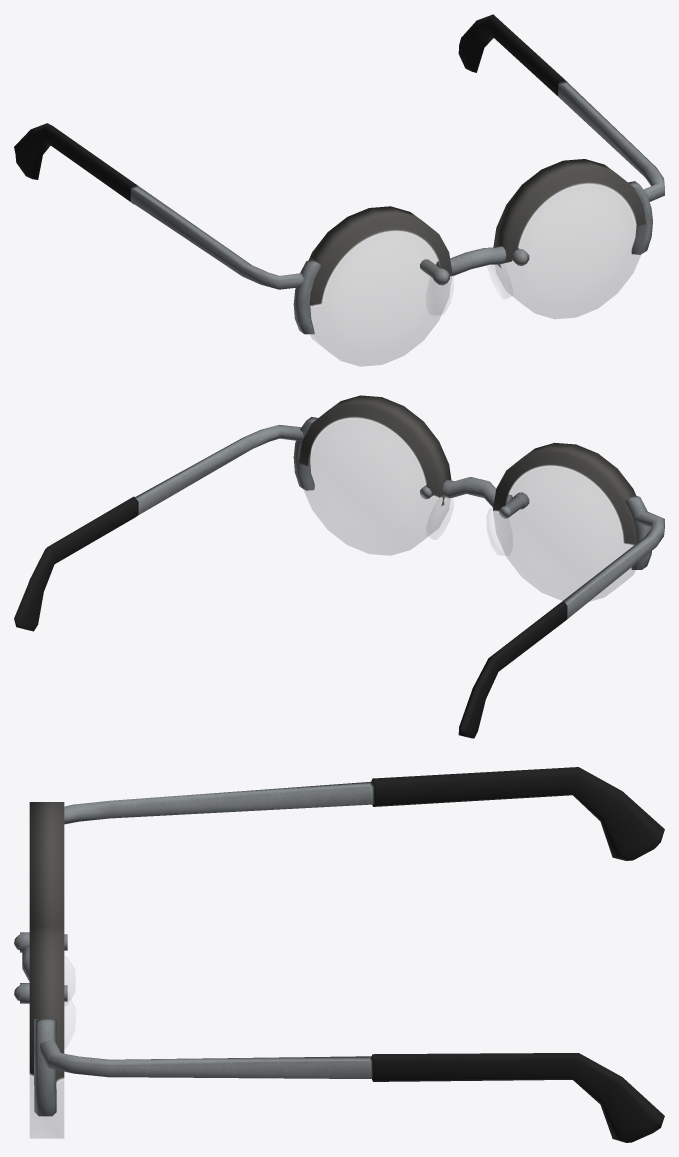
File: femaleglass1.glb
The picture shows the model from 3 angles, top to bottom: view 1: azimuth 30°, elevation 25°; view 2: azimuth 150°, elevation 25°; view 3: azimuth 270°, elevation 25°; orthographic projection. The views are drawn at different scales.
Visible parts, largest first — view 1: Wolf3D_Glasses; view 2: Wolf3D_Glasses; view 3: Wolf3D_Glasses.
Boxes of the visible parts, <box> form: Wolf3D_Glasses: <box>14,14,664,366</box>; Wolf3D_Glasses: <box>14,395,664,738</box>; Wolf3D_Glasses: <box>14,767,664,1142</box>.
Size of the model in its own units: 0.1647 by 0.0513 by 0.1562.
1 material, 1 textured.
